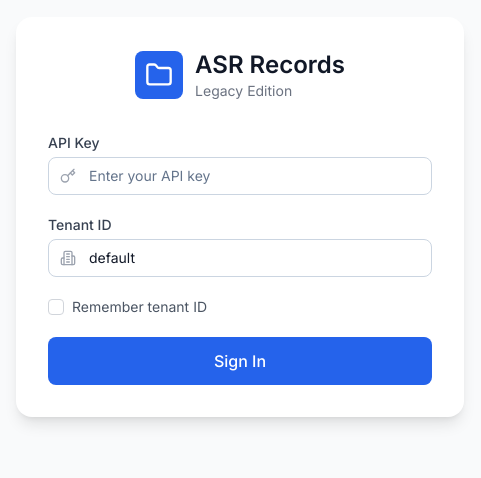
Test case: Login page › shows error on failed login
The width and height of the screenshot is (481, 478).
Type "short" into the password field labelled "API Key" at (240, 176), box [48,157,432,195]
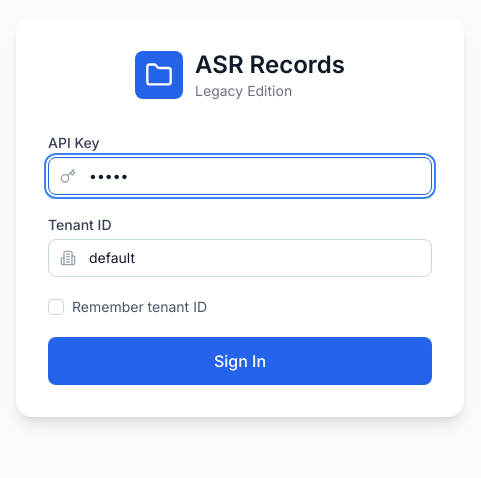
Click the button "Sign In" at (240, 361), box [48,337,432,385]
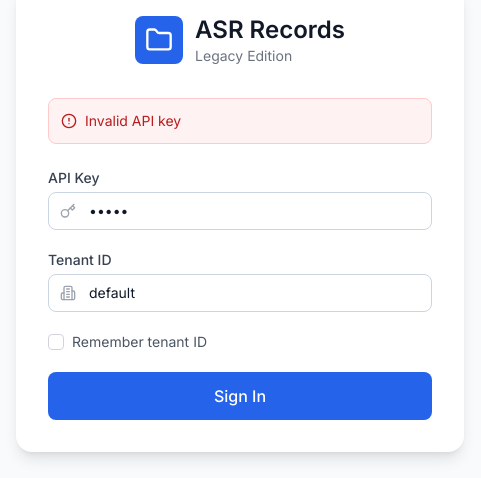
Now the message reads "Invalid API key", box [85,112,181,129]
